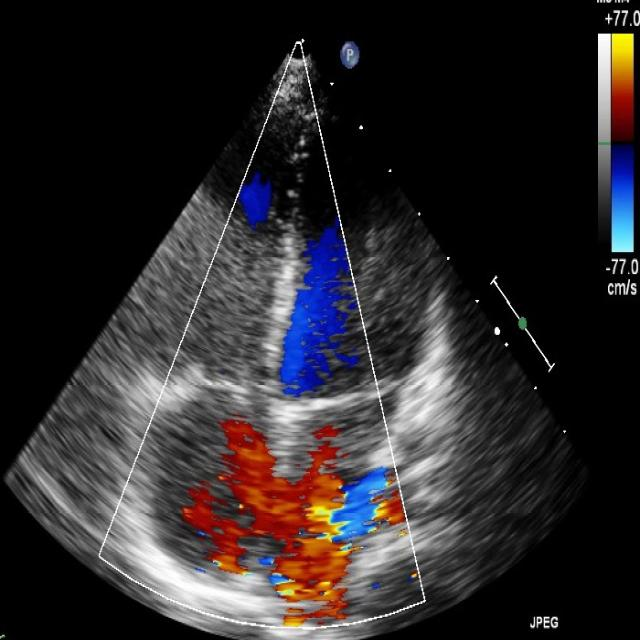ASDType2: (233, 475, 374, 541)
